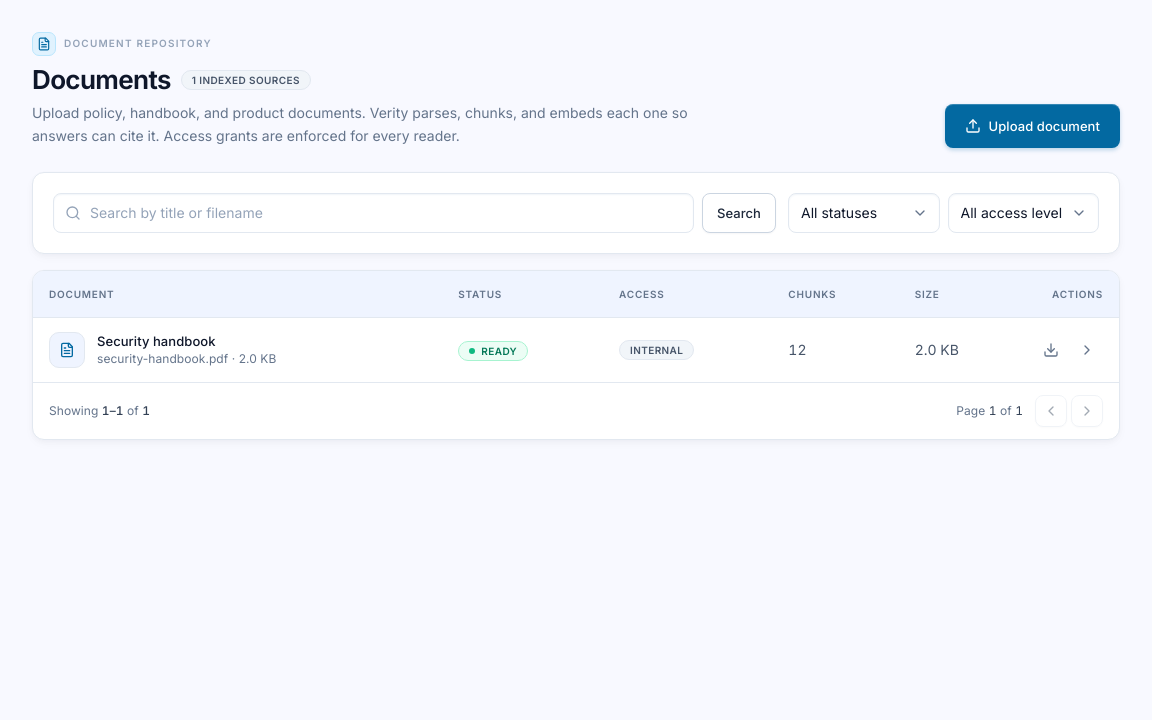
it: Documents page › deletes a document after confirmation
Step 1. Click the button named "Open Security handbook" → x=1087, y=350, box [1071, 334, 1103, 366]
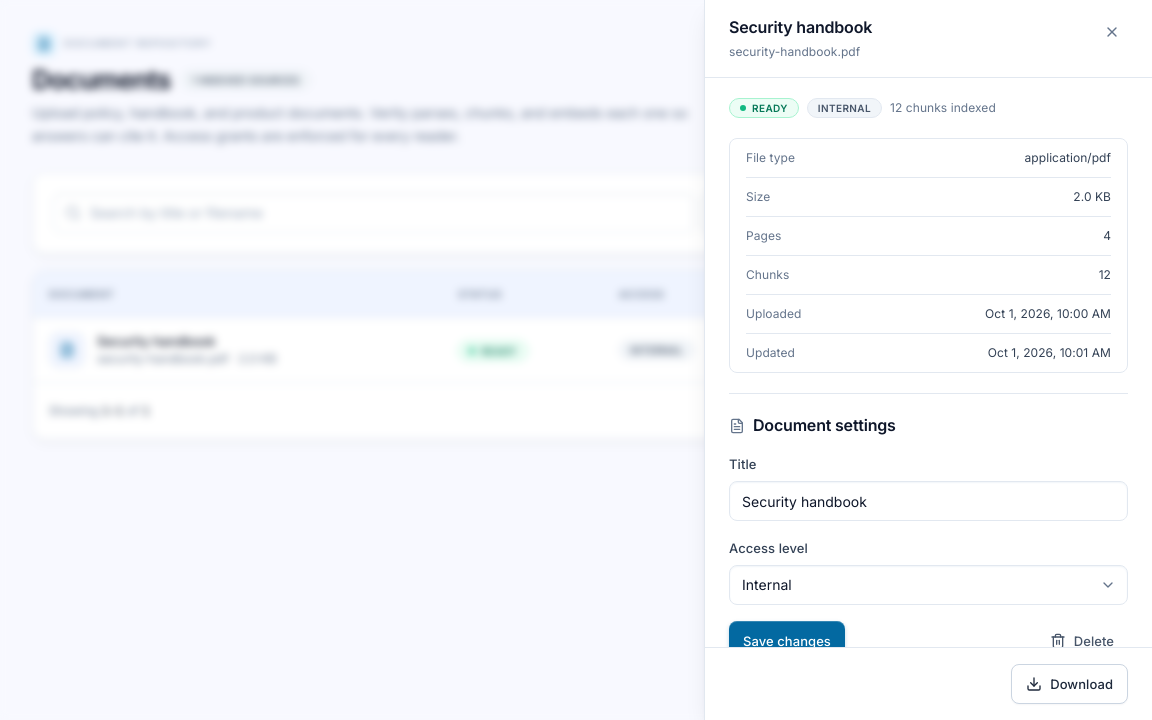
Expected: the heading "Document settings" is shown, [753, 414, 896, 437]
Step 2. Click the button "Delete" → x=1082, y=641, box [1036, 621, 1128, 661]
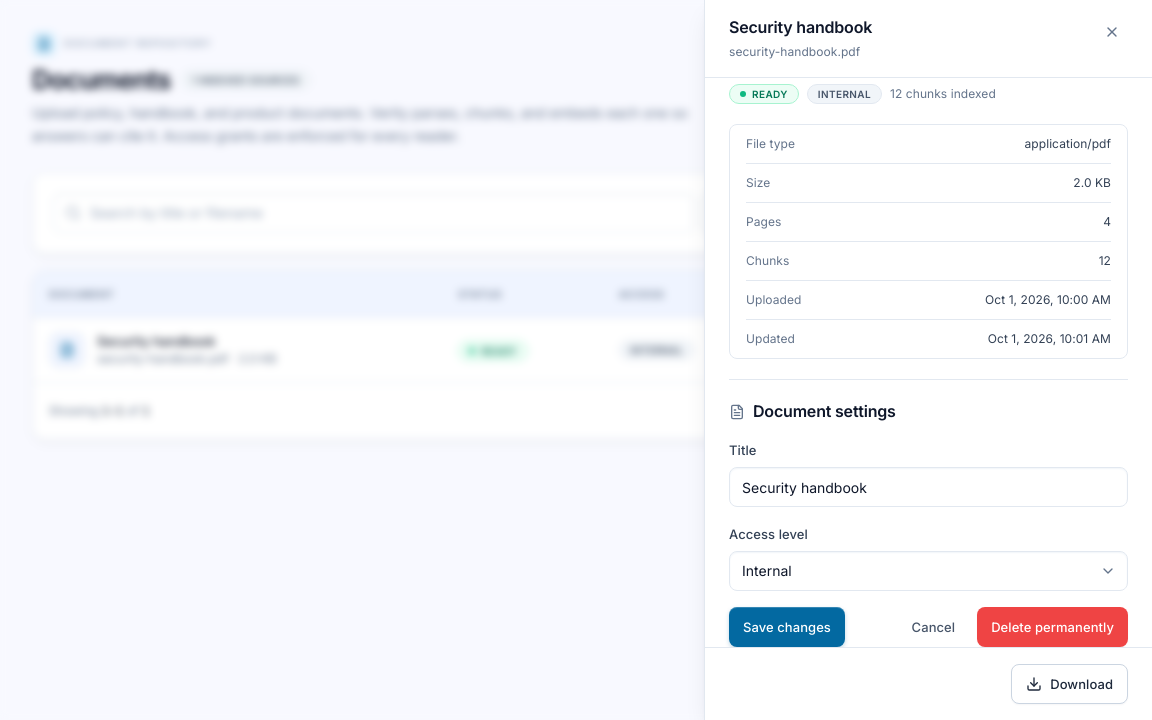
Step 3. Click the button "Delete permanently" → x=1053, y=627, box [977, 607, 1128, 647]
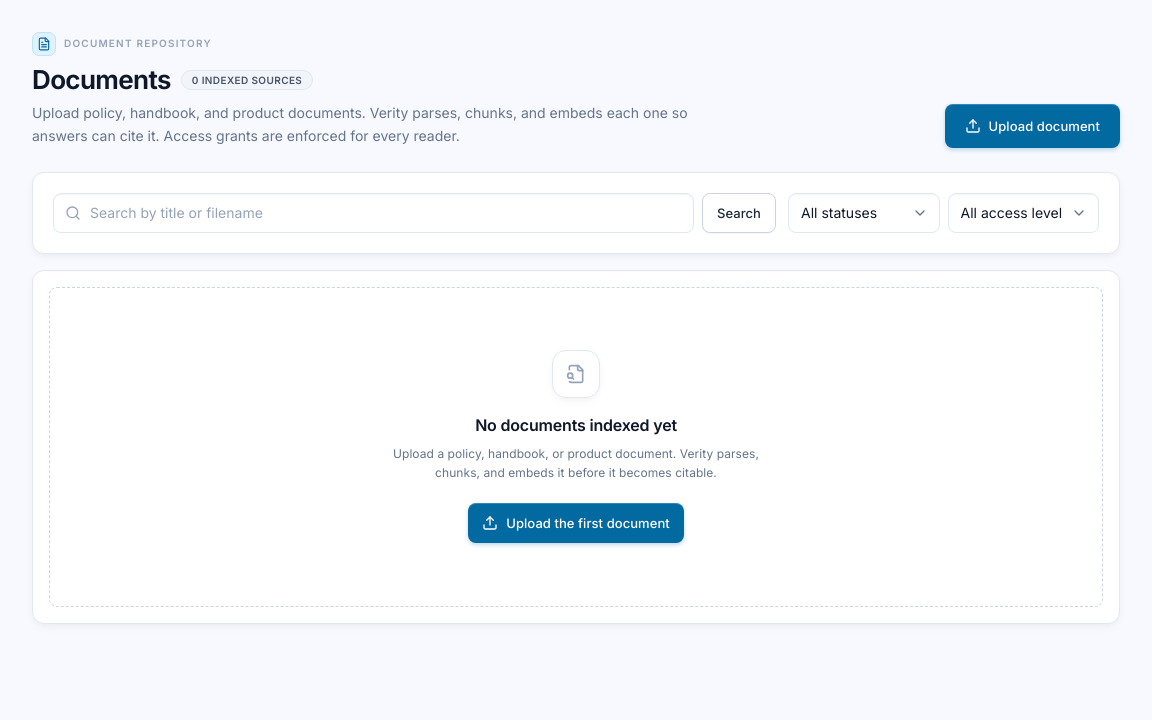
Expected: the text "No documents indexed yet" is shown, [475, 414, 677, 438]
